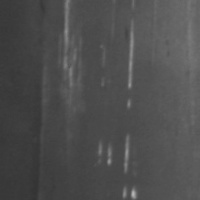scratches: (93, 129, 144, 200), (55, 0, 89, 85), (119, 17, 140, 109)
